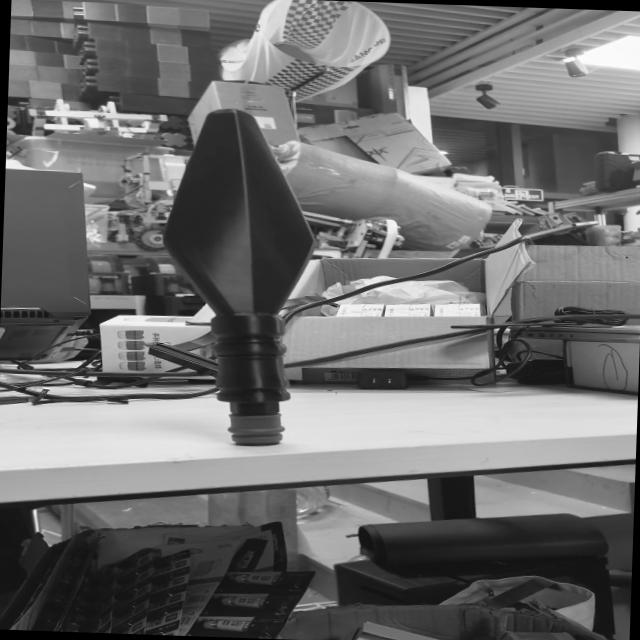base: (214, 411, 292, 450)
